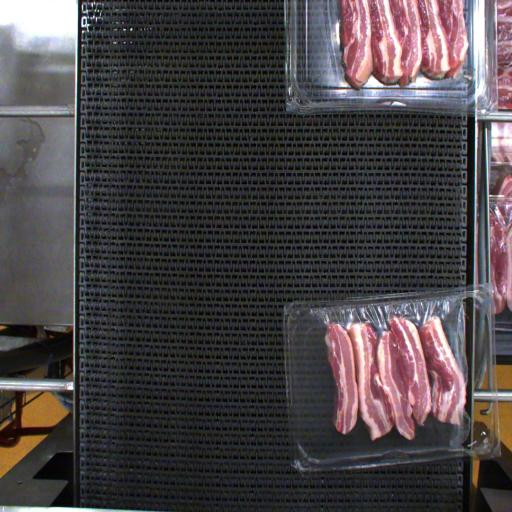unsealed: (300, 298, 474, 421)
